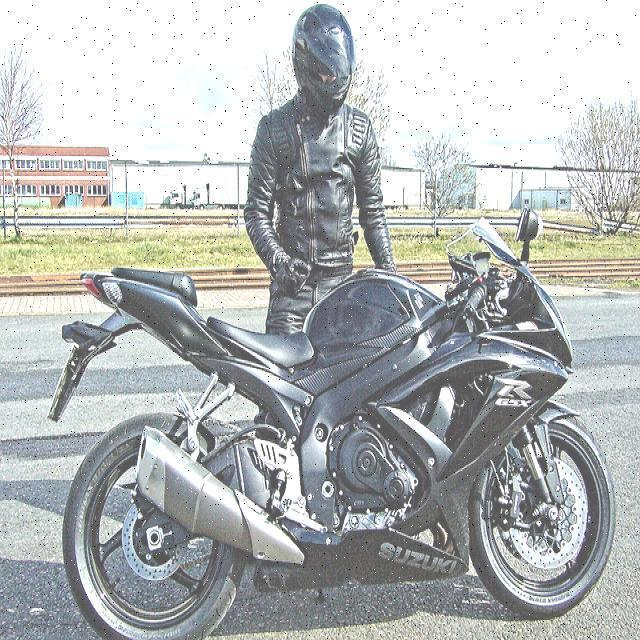motorcycle: (46, 205, 624, 640)
